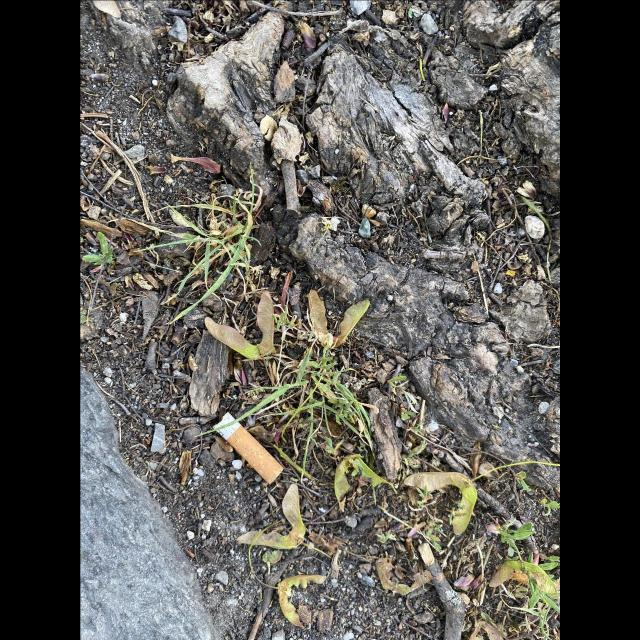cigarette: (210, 410, 284, 484)
